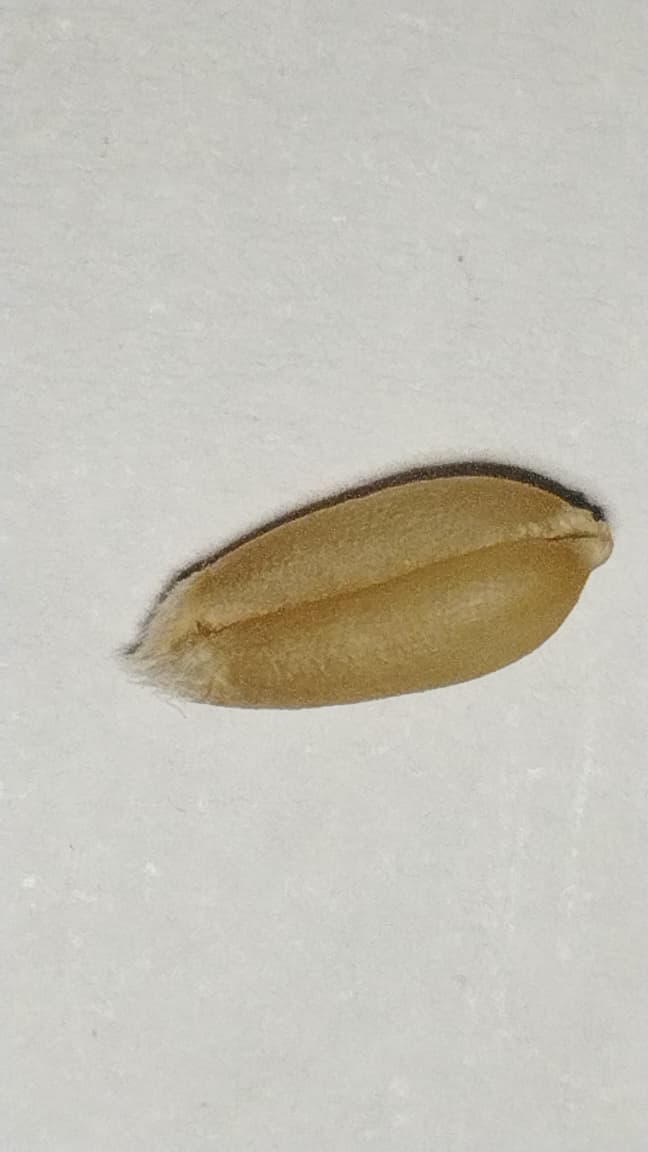healthy: (132, 469, 610, 706)
